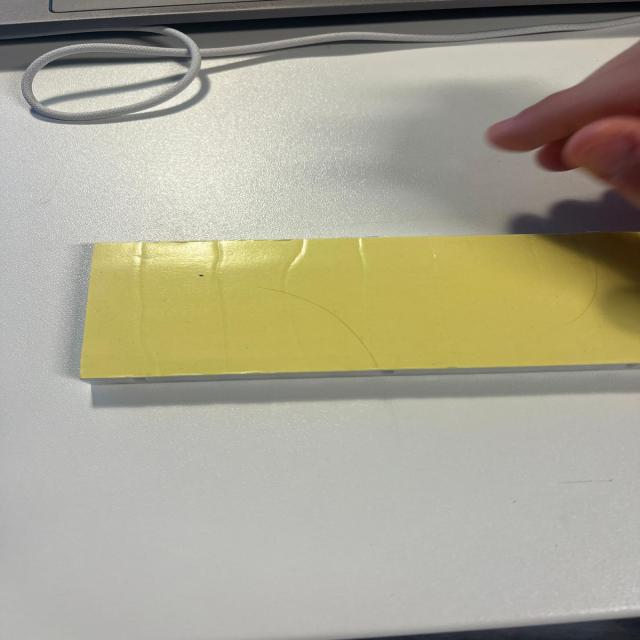BreadBoard: (81, 237, 631, 391)
